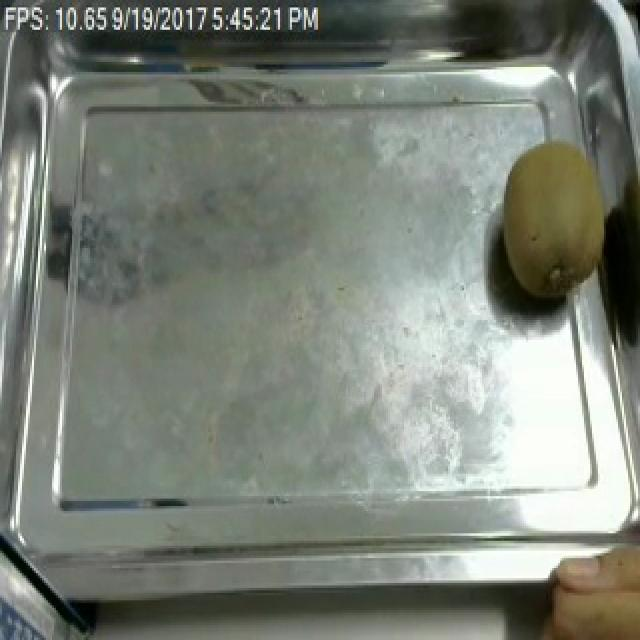Fruit: (488, 129, 618, 315), (532, 526, 640, 640)
